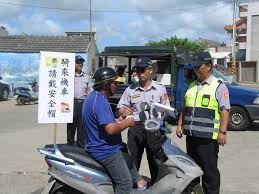helmet: (91, 71, 117, 81)
